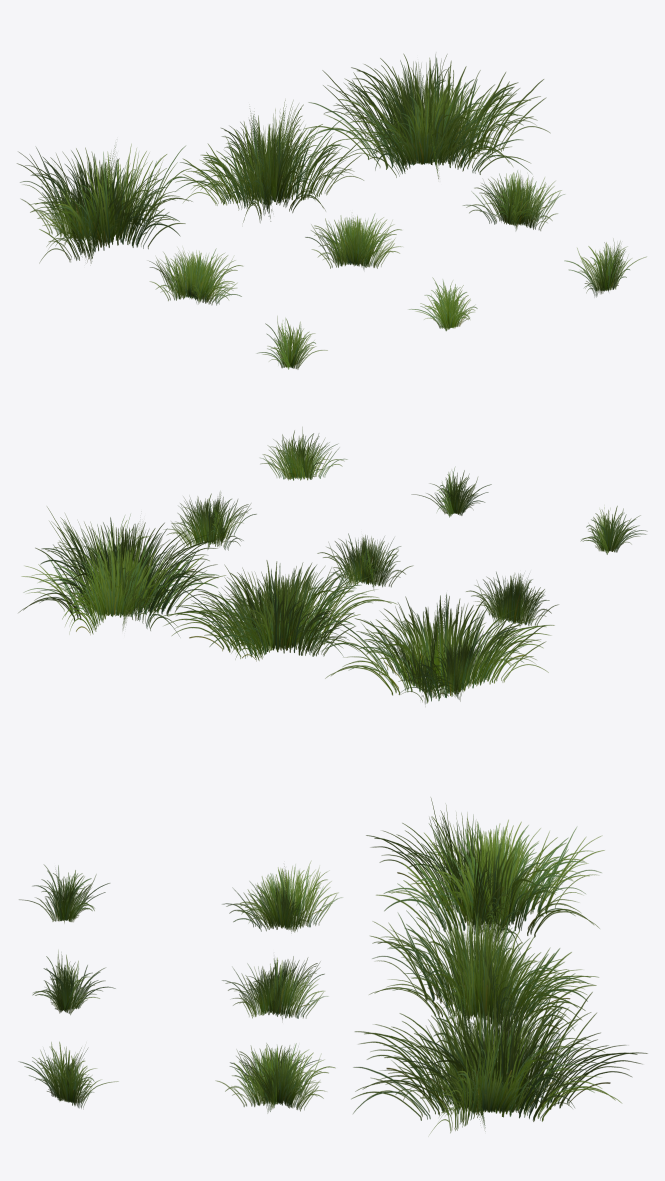
File: grass-pack-lods.glb
The picture shows the model from 3 angles, top to bottom: view 1: azimuth 30°, elevation 25°; view 2: azimuth 150°, elevation 25°; view 3: azimuth 270°, elevation 25°; orthographic projection. The views are drawn at different scales.
Parts seen in each view (by area): view 1: Grass large 3, Grass large 1, Grass large 2, Grass medium 2, Grass medium 3, Grass medium 1, Grass small 3, Grass small 2, Grass small 1; view 2: Grass large 3, Grass large 1, Grass large 2, Grass medium 3, Grass medium 2, Grass medium 1, Grass small 3, Grass small 1, Grass small 2; view 3: Grass large 3, Grass large 1, Grass large 2, Grass medium 3, Grass medium 1, Grass medium 2, Grass small 3, Grass small 2, Grass small 1.
Part boxes in pixels (x1=…): Grass large 3: x1=304, y1=53, x2=550, y2=178; Grass large 1: x1=17, y1=144, x2=192, y2=263; Grass large 2: x1=175, y1=100, x2=363, y2=222; Grass medium 2: x1=305, y1=213, x2=401, y2=269; Grass medium 3: x1=463, y1=170, x2=564, y2=230; Grass medium 1: x1=149, y1=248, x2=242, y2=305; Grass small 3: x1=564, y1=239, x2=646, y2=297; Grass small 2: x1=409, y1=277, x2=477, y2=331; Grass small 1: x1=257, y1=316, x2=327, y2=369; Grass large 3: x1=18, y1=507, x2=225, y2=636; Grass large 1: x1=321, y1=594, x2=554, y2=706; Grass large 2: x1=159, y1=560, x2=397, y2=661; Grass medium 3: x1=165, y1=491, x2=256, y2=550; Grass medium 2: x1=317, y1=533, x2=413, y2=589; Grass medium 1: x1=466, y1=572, x2=558, y2=626; Grass small 3: x1=260, y1=427, x2=347, y2=480; Grass small 1: x1=581, y1=506, x2=647, y2=554; Grass small 2: x1=411, y1=468, x2=491, y2=517; Grass large 3: x1=351, y1=990, x2=647, y2=1134; Grass large 1: x1=366, y1=797, x2=604, y2=954; Grass large 2: x1=369, y1=907, x2=598, y2=1037; Grass medium 3: x1=215, y1=1043, x2=335, y2=1112; Grass medium 1: x1=222, y1=862, x2=342, y2=932; Grass medium 2: x1=222, y1=956, x2=328, y2=1020; Grass small 3: x1=18, y1=1041, x2=118, y2=1108; Grass small 2: x1=32, y1=950, x2=115, y2=1014; Grass small 1: x1=19, y1=865, x2=109, y2=923.
Bounding box in the file's own units: 2.05 × 0.3954 × 1.87.
1 material, 1 textured.
